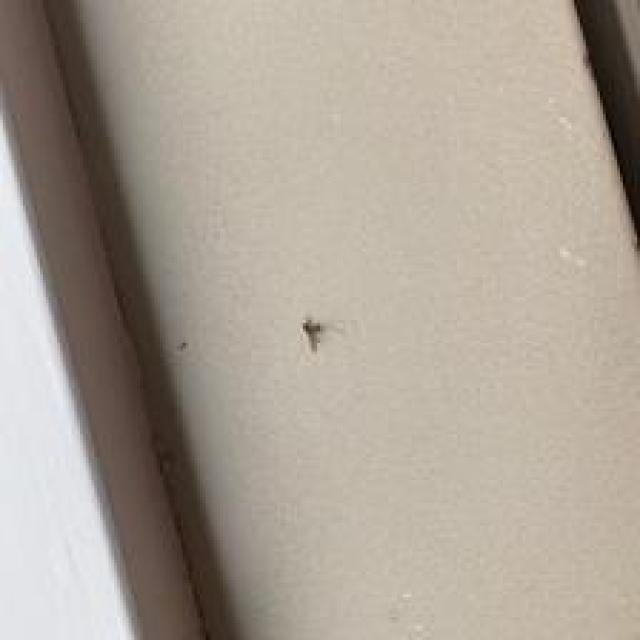Culex: (300, 316, 323, 353)
